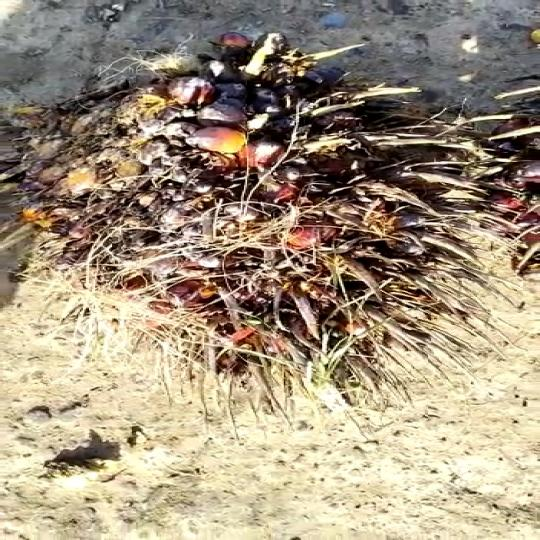terlalu masak: (16, 41, 540, 399)
